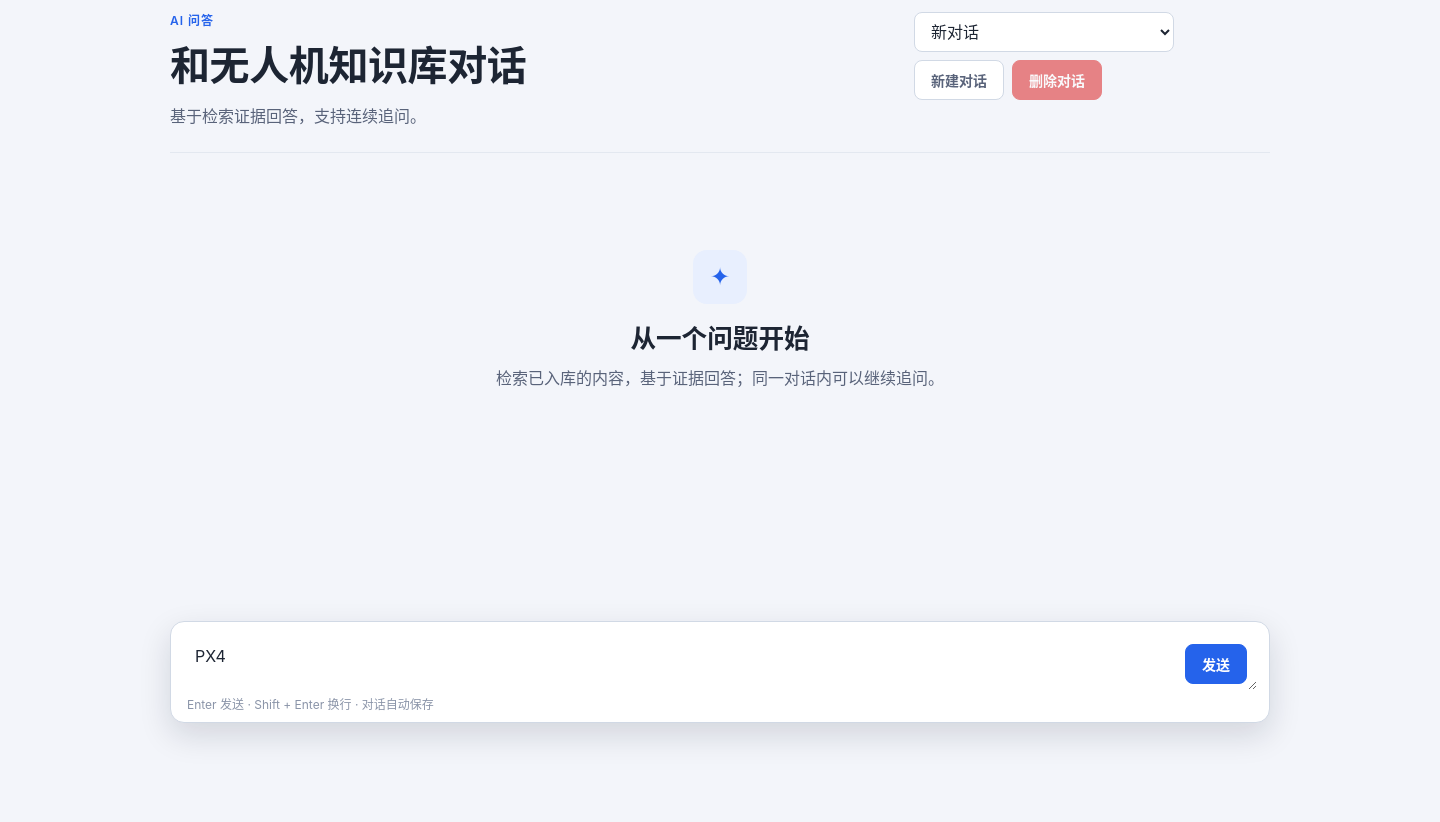
Test: AI chat streaming and sessions › shows deltas before completion and passes the saved session id
Click the button "发送" at (1216, 664), box [1185,644,1247,684]
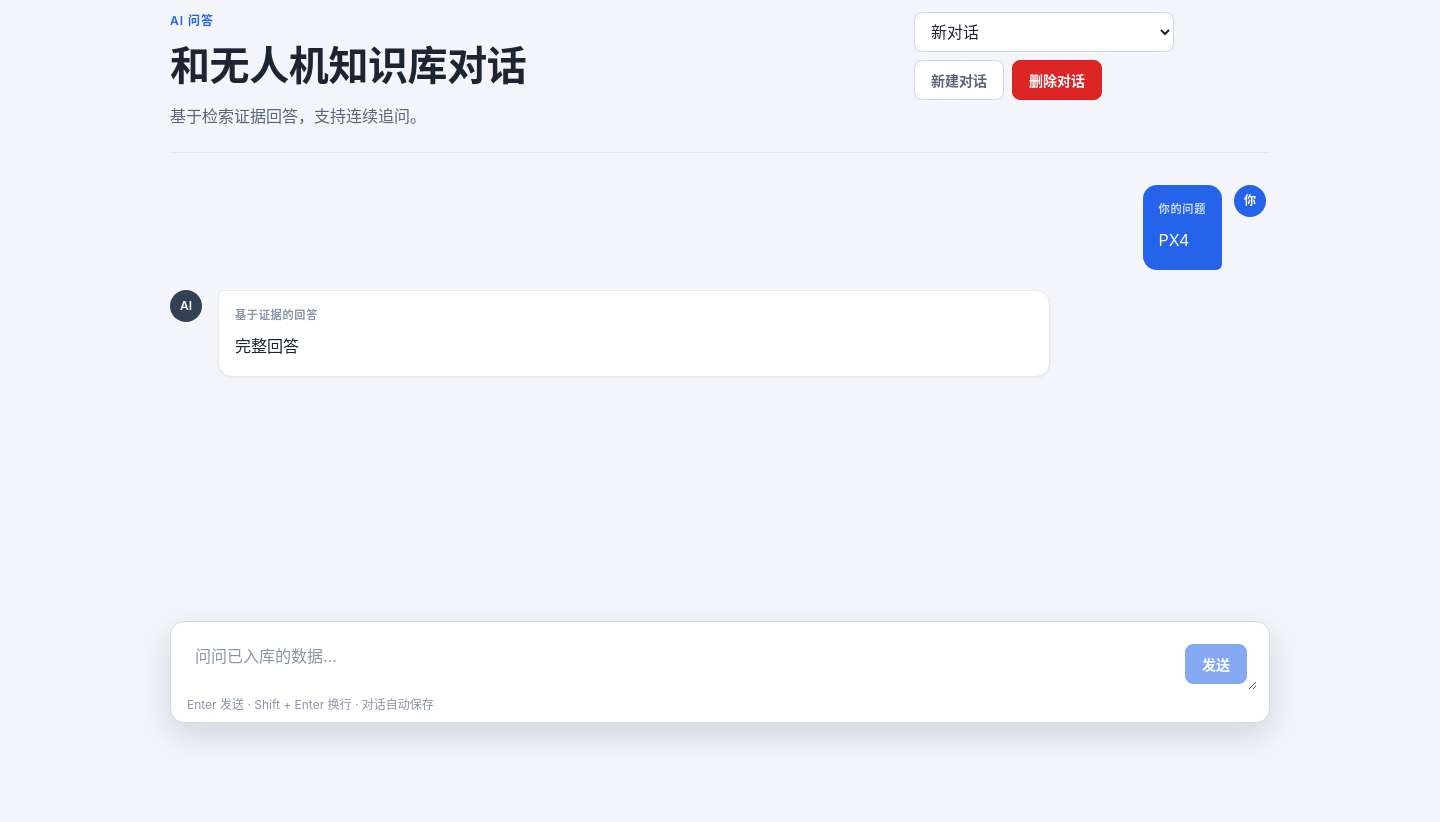
Result: the text "完整回答" is shown at [235,336,299,356]
